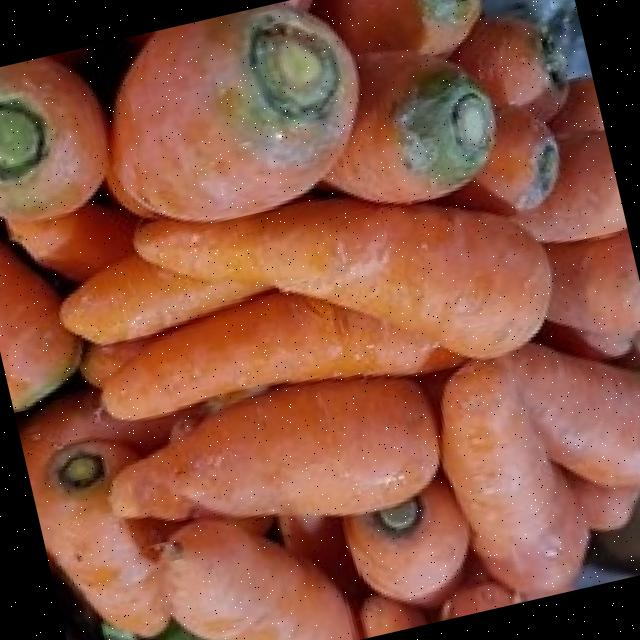carrot: (138, 201, 555, 359), (107, 3, 357, 220), (440, 343, 640, 592), (104, 293, 463, 417), (0, 55, 105, 219)
